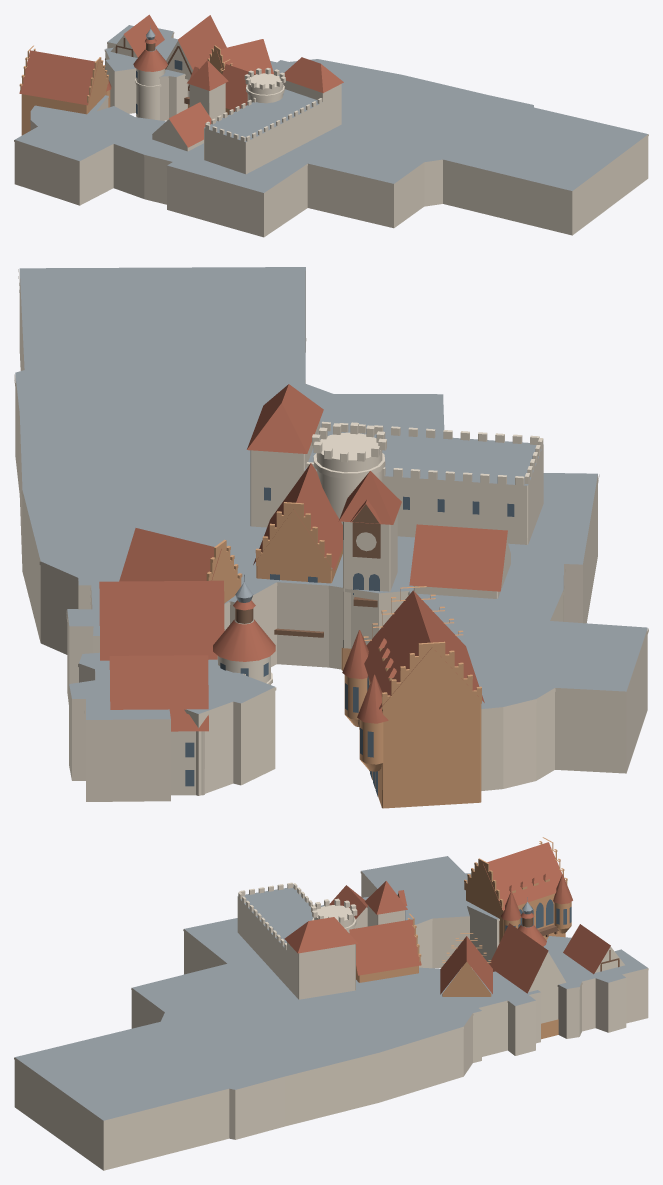
Rendered from wdw-epcot-germany.glb.
3 renders of one model, top to bottom at view 1: azimuth 30°, elevation 25°; view 2: azimuth 150°, elevation 25°; view 3: azimuth 270°, elevation 25°, orthographic. The views are drawn at different scales.
Parts seen in each view (by area): view 1: EPCOT Germany pavilion; view 2: EPCOT Germany pavilion; view 3: EPCOT Germany pavilion.
Boxes of the visible parts, x1,y1,x2,y2 form: EPCOT Germany pavilion: (14,14,648,237); EPCOT Germany pavilion: (14,267,648,808); EPCOT Germany pavilion: (14,837,648,1170).
Bounding box in the file's own units: 102 × 21.5 × 104.
